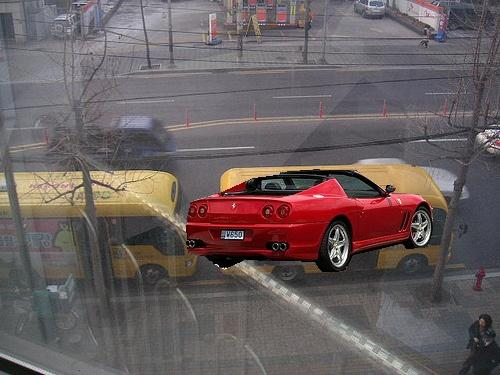tampered: (187, 170, 433, 272)
